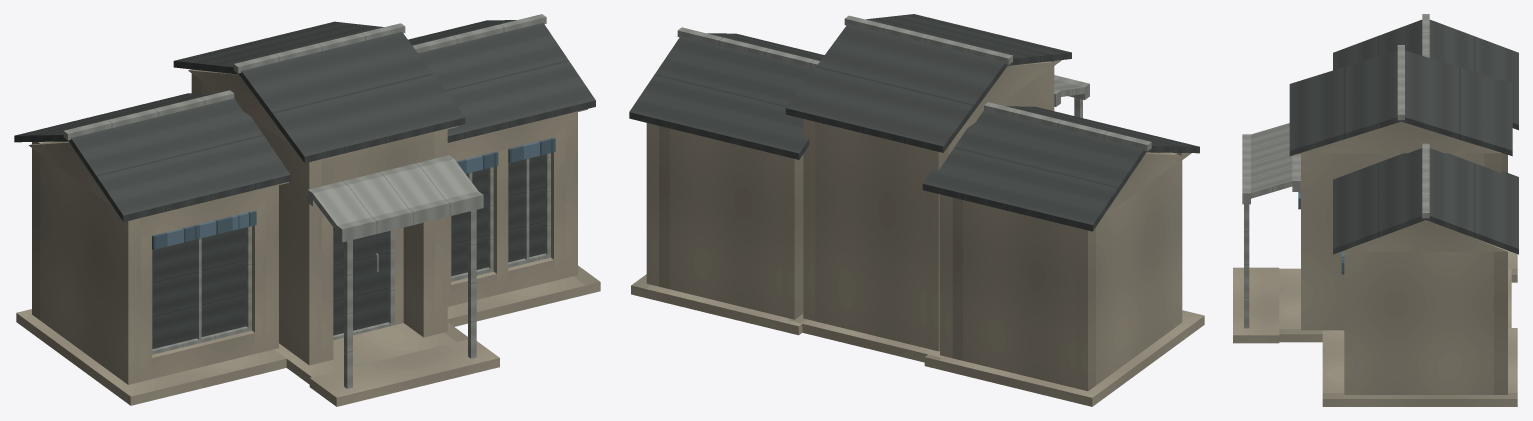
The picture shows the model from 3 angles, left to right: view 1: azimuth 30°, elevation 25°; view 2: azimuth 150°, elevation 25°; view 3: azimuth 270°, elevation 25°; orthographic projection. The views are drawn at different scales.
Visible parts, largest first — view 1: torshavn; view 2: torshavn; view 3: torshavn.
Boxes of the visible parts, <box> form: torshavn: <box>14,14,600,406</box>; torshavn: <box>629,14,1204,406</box>; torshavn: <box>1233,14,1518,406</box>.
Bounding box in the file's own units: 6.88 × 3.7 × 4.18.
1 material, 1 textured.
